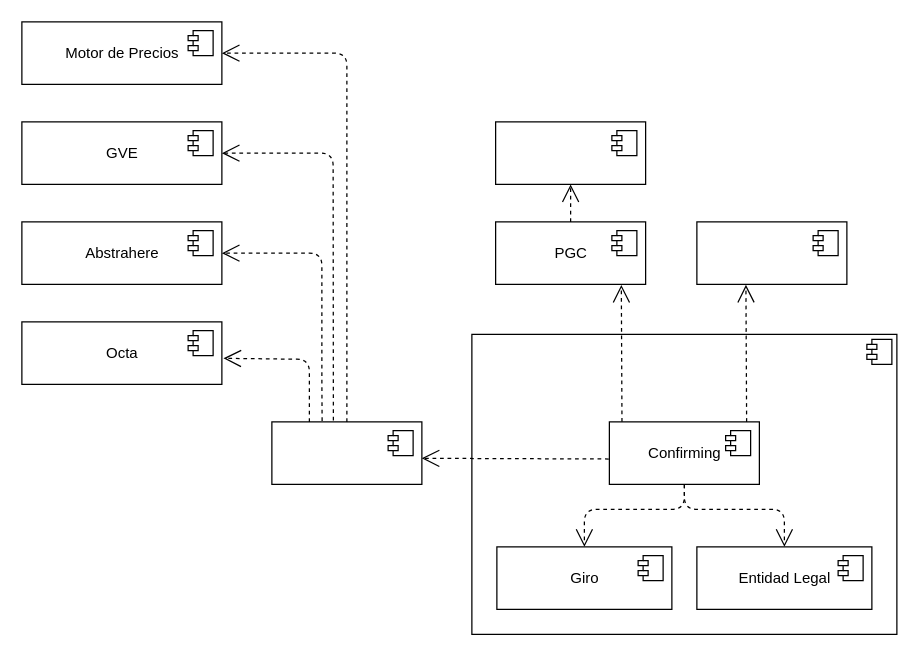
Some shapes in this 919 by 656 pixel diagram are drawn without their labels. Each missing label, with the box of its shape:
Derivatik: (471, 333, 897, 634)
DWH: (696, 221, 847, 284)
Front: (494, 121, 646, 184)
Middleware: (271, 421, 422, 484)
